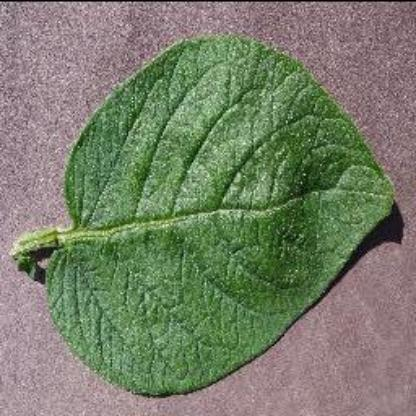Healthy-plant: (12, 30, 406, 395)
